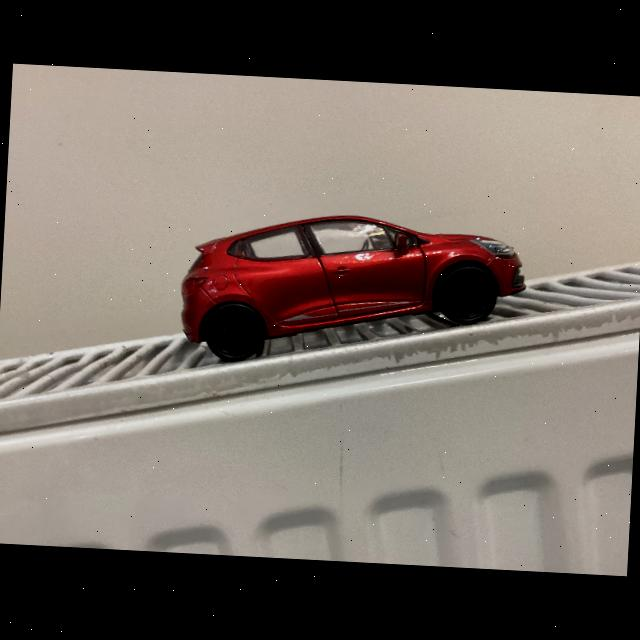Dogru_Jant: (440, 267, 492, 320), (210, 308, 259, 355)
